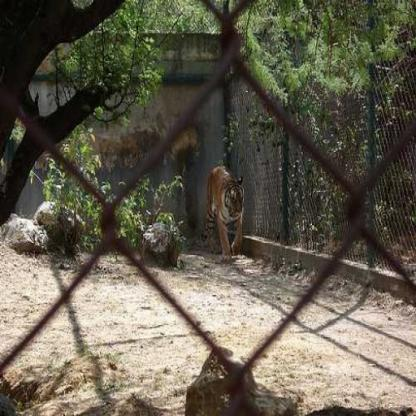Tiger: (204, 160, 257, 258)
